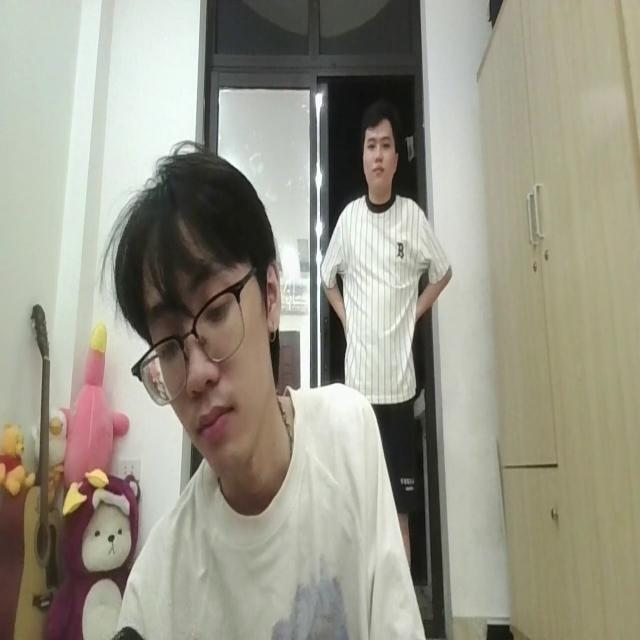extra_person: (320, 105, 450, 417)
student: (109, 139, 422, 640)
